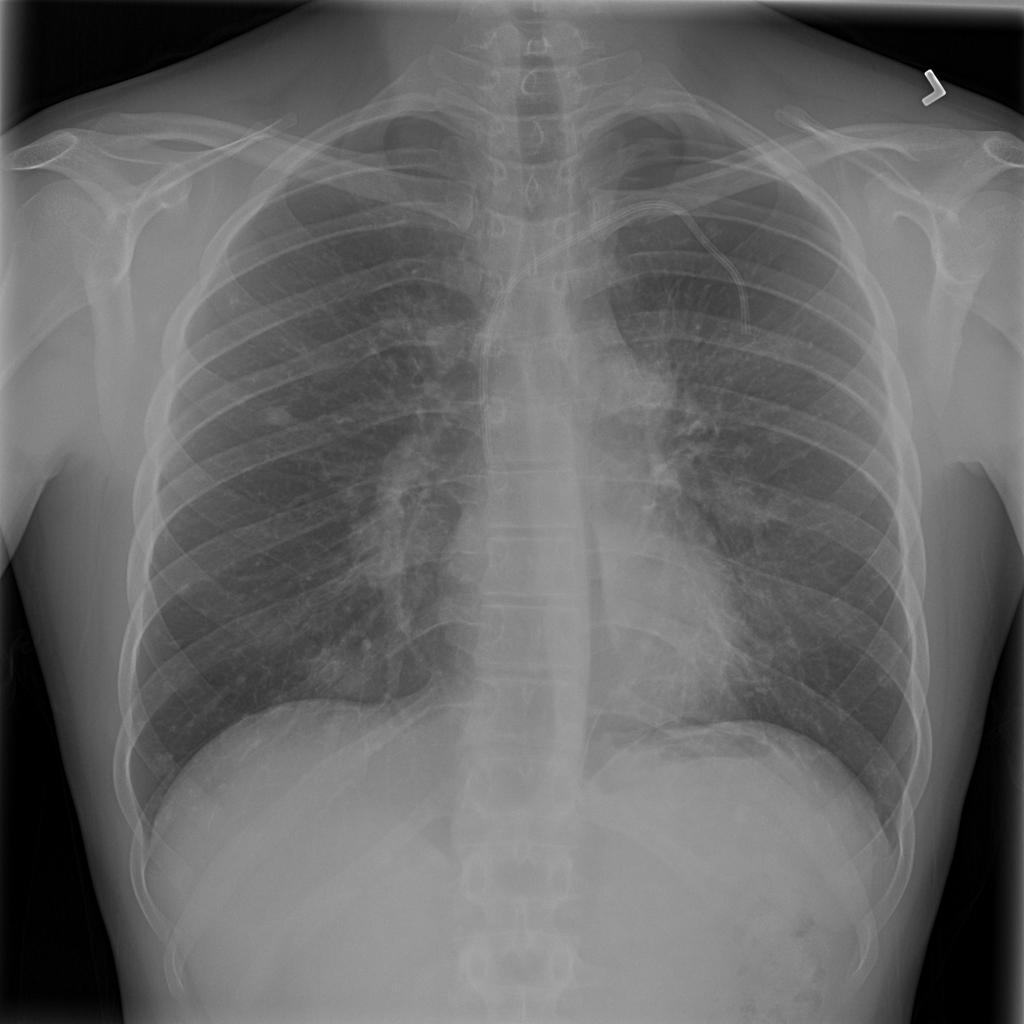nodule: (299, 629, 382, 708), (861, 651, 911, 700), (248, 396, 307, 437), (159, 564, 212, 609), (217, 289, 248, 317)
